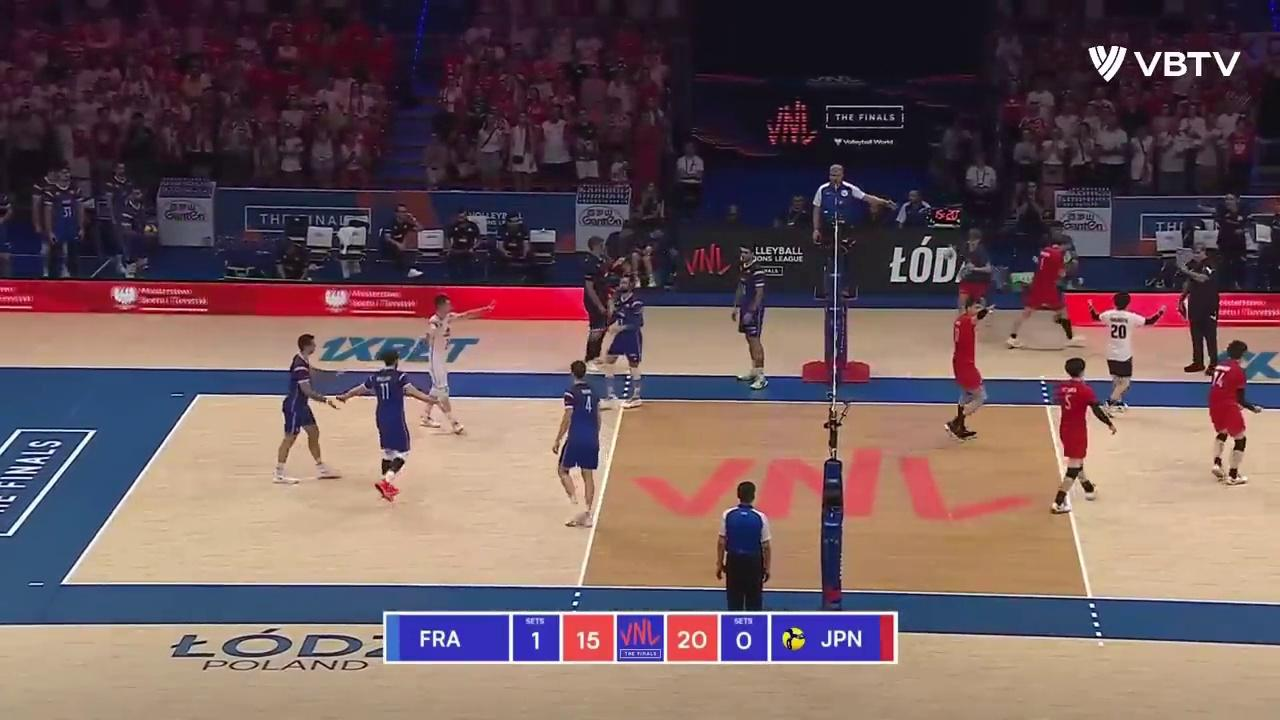ball: (143, 223, 158, 237)
